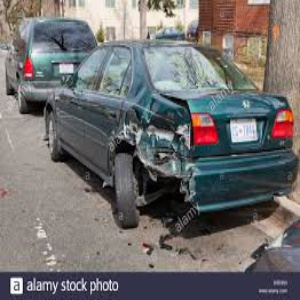bumper: (132, 149, 205, 206)
